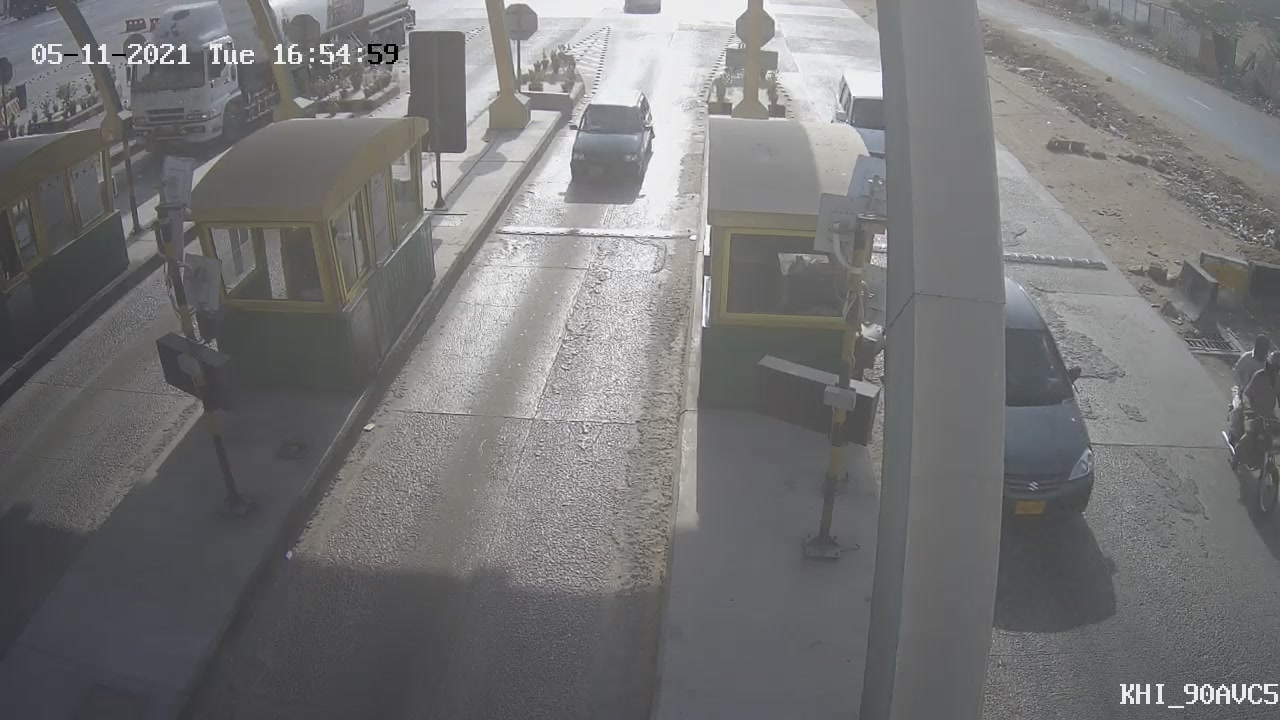F1: (551, 75, 673, 209)
